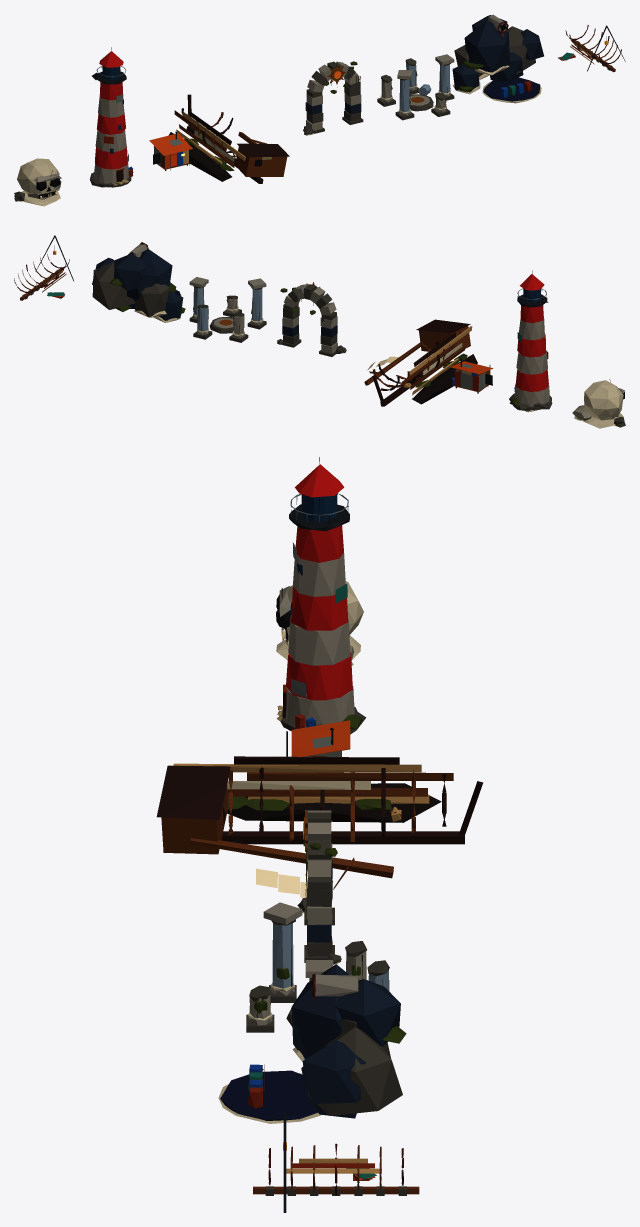
Rendered from tb_landmark_kit.three-web-toon.lod50.glb.
The picture shows the model from 3 angles, top to bottom: view 1: azimuth 30°, elevation 25°; view 2: azimuth 150°, elevation 25°; view 3: azimuth 270°, elevation 25°; orthographic projection. The views are drawn at different scales.
Parts seen in each view (by area): view 1: spring_lod, wreck_lod, lighthouse_lod, pillar_ring_lod, sun_arch_lod, skull_rock_lod, hut_lod, slipway_lod; view 2: spring_lod, wreck_lod, lighthouse_lod, pillar_ring_lod, sun_arch_lod, skull_rock_lod, hut_lod, slipway_lod; view 3: wreck_lod, spring_lod, lighthouse_lod, pillar_ring_lod, sun_arch_lod, slipway_lod, hut_lod, skull_rock_lod.
Part boxes in pixels (bbox=[...]): spring_lod: bbox=[452, 14, 543, 103]; wreck_lod: bbox=[168, 94, 289, 183]; lighthouse_lod: bbox=[89, 47, 133, 187]; pillar_ring_lod: bbox=[377, 54, 454, 120]; sun_arch_lod: bbox=[303, 61, 363, 135]; skull_rock_lod: bbox=[14, 158, 61, 206]; hut_lod: bbox=[149, 131, 192, 170]; slipway_lod: bbox=[558, 25, 625, 72]; spring_lod: bbox=[92, 242, 185, 322]; wreck_lod: bbox=[364, 319, 477, 406]; lighthouse_lod: bbox=[509, 270, 552, 412]; pillar_ring_lod: bbox=[189, 277, 266, 342]; sun_arch_lod: bbox=[277, 282, 346, 356]; skull_rock_lod: bbox=[572, 379, 625, 428]; hut_lod: bbox=[450, 358, 493, 393]; slipway_lod: bbox=[14, 235, 73, 300]; wreck_lod: bbox=[156, 756, 483, 897]; spring_lod: bbox=[218, 964, 406, 1123]; lighthouse_lod: bbox=[276, 457, 366, 734]; pillar_ring_lod: bbox=[246, 902, 389, 1032]; sun_arch_lod: bbox=[297, 810, 341, 964]; slipway_lod: bbox=[253, 1112, 419, 1212]; hut_lod: bbox=[286, 720, 350, 756]; skull_rock_lod: bbox=[276, 581, 363, 666].
Bounding box in the file's own units: 100 × 22.36 × 23.58.
